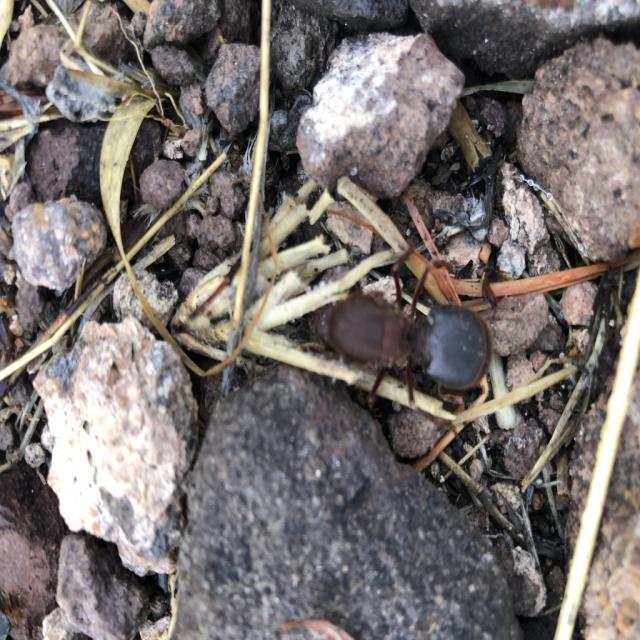Alive-Female-Dealate: (309, 240, 510, 441)
